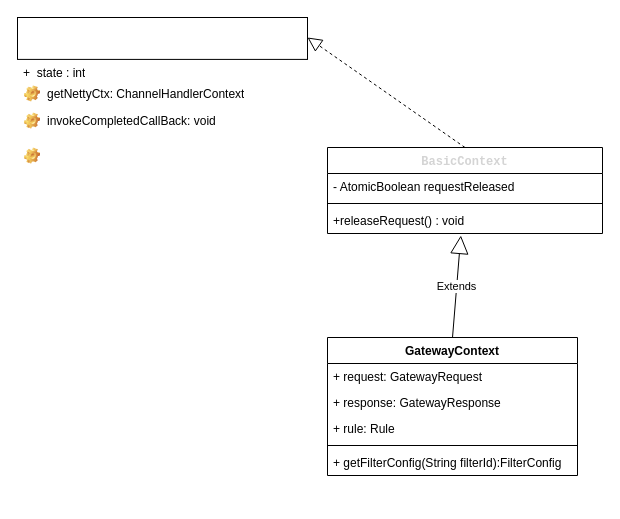
The diagram is 620 pixels wide and 519 high, and some of its shapes have lost their labels. The centre of each missing label's shape, as x and y in pixels:
setCompletedCallBack(Consumer<IContext> consumer): the point at 162,155
«interface» IContext: the point at 162,37
